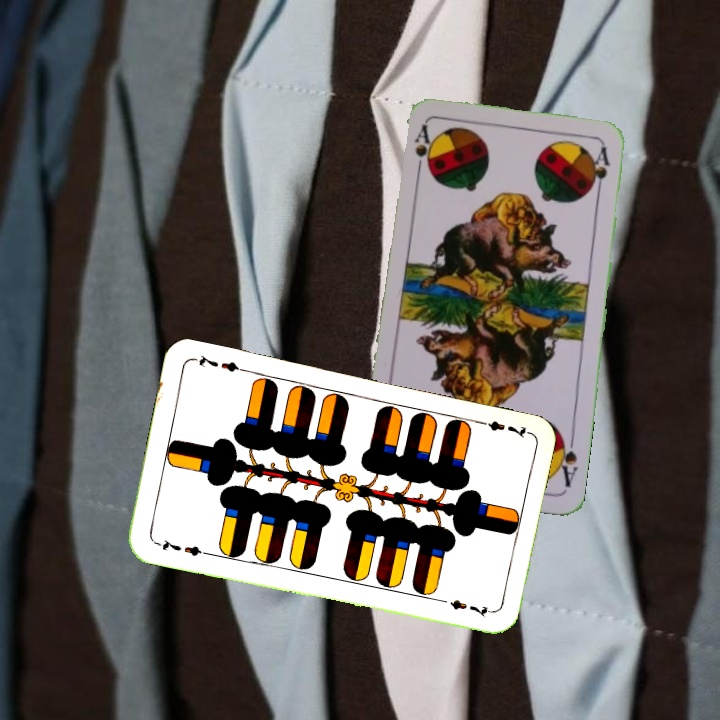E7: (472, 416, 531, 441), (151, 535, 210, 559)
SA: (552, 431, 580, 490), (411, 121, 434, 180)
